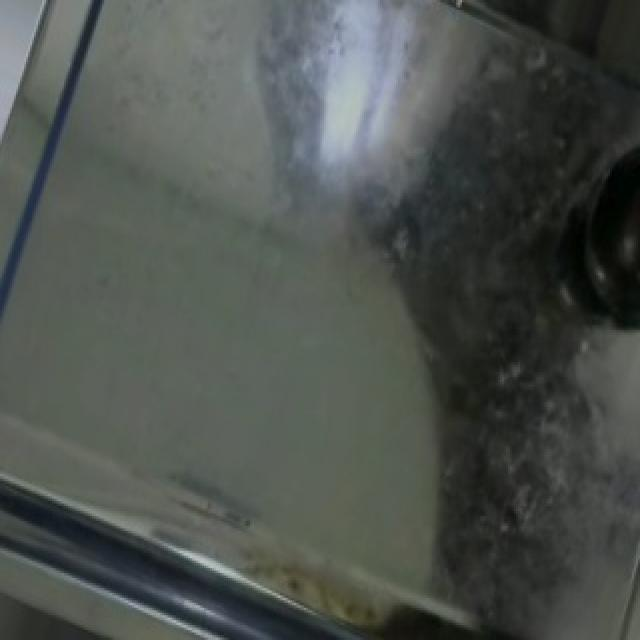Fruit: (572, 126, 640, 312)
